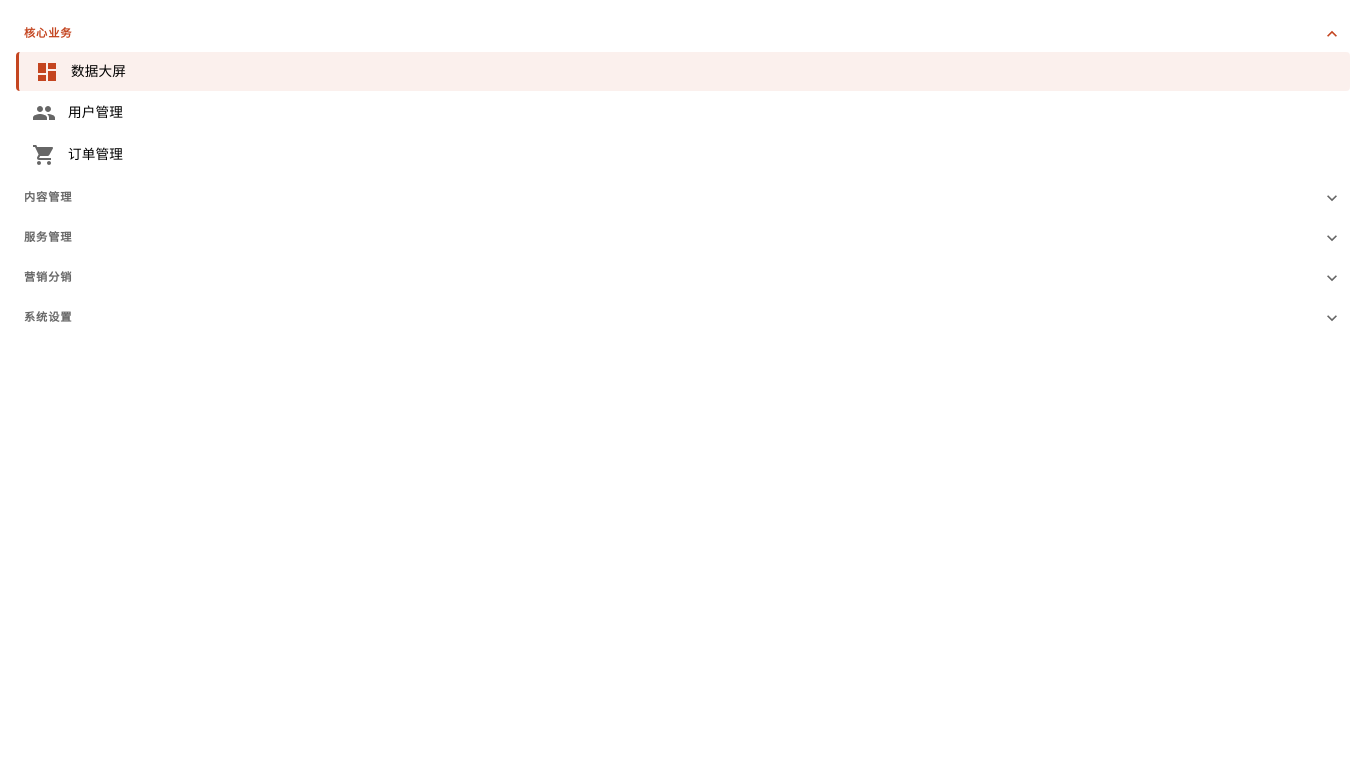
Test case: CustomMenu › toggles group collapse on click
Step 1. Click the text "内容管理" → (48, 198), box [24,188,1342,208]
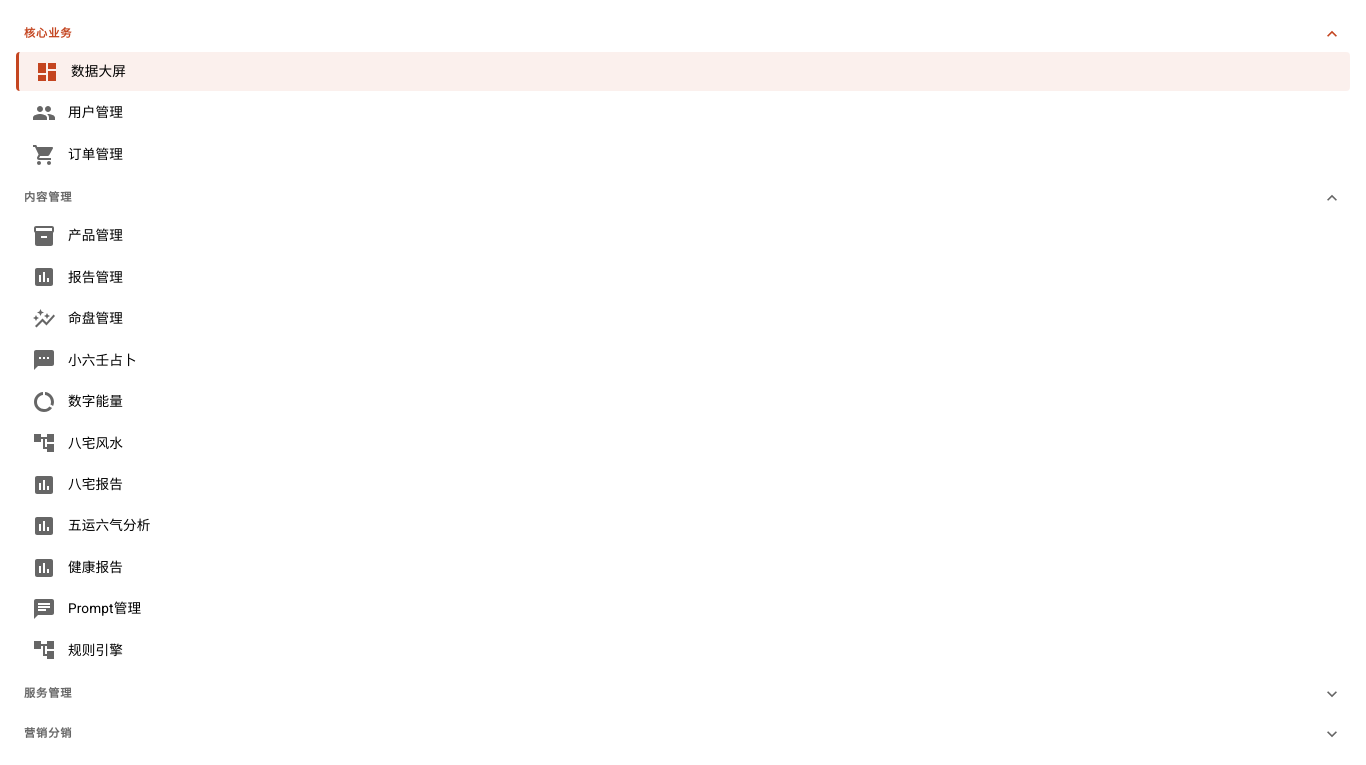
Expected: the text "产品管理" is shown, [68,227,123,243]
Expected: the text "报告管理" is shown, [68,269,123,285]
Expected: the text "命盘管理" is shown, [68,310,123,326]
